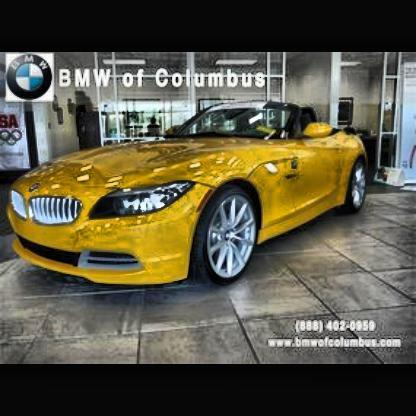BMW Z4 Convertible 2012: (4, 96, 376, 297)
